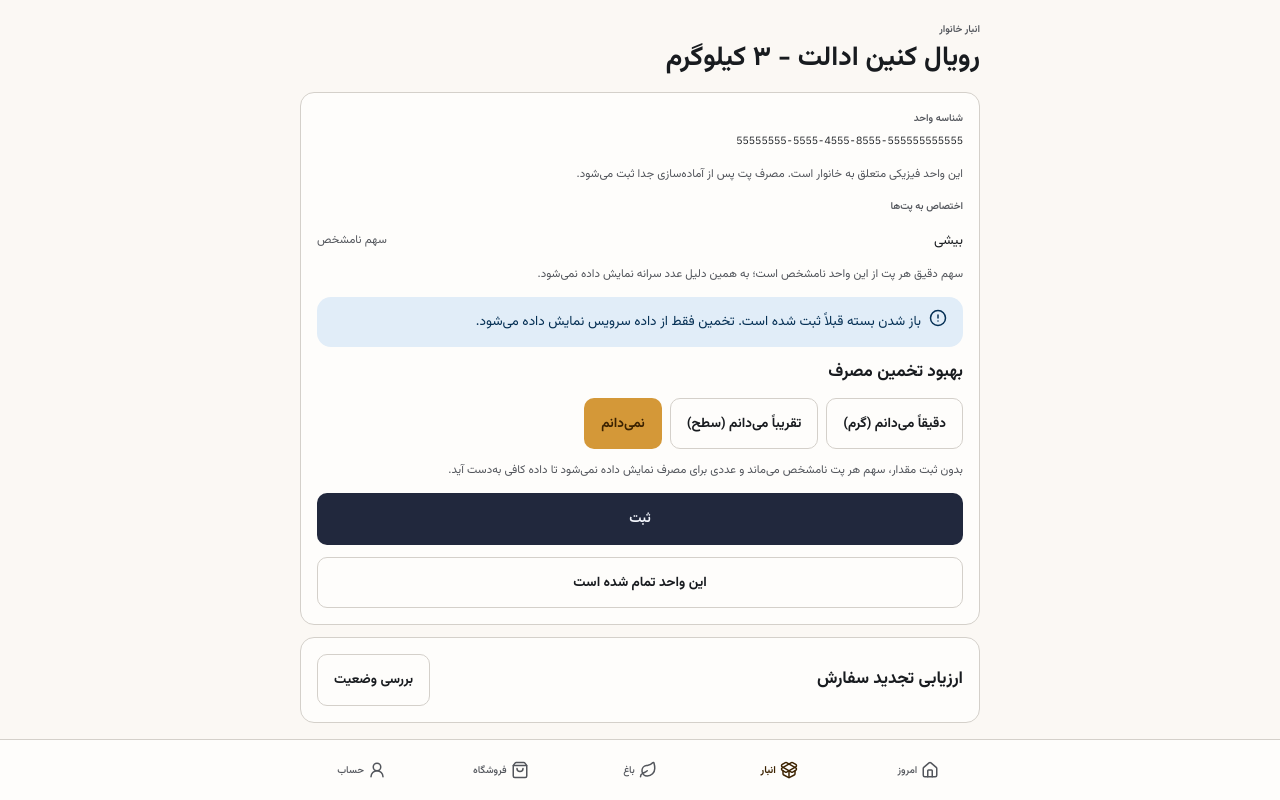
Test: InventoryOpening › lets an opened unit's estimate be corrected with a new exact-grams reading
The image size is (1280, 800).
Expected: the text "قبلاً ثبت شده" is shown, [476,311,921,332]
Click the button "دقیقاً می‌دانم (گرم)": (895, 424) [826,398,963,449]
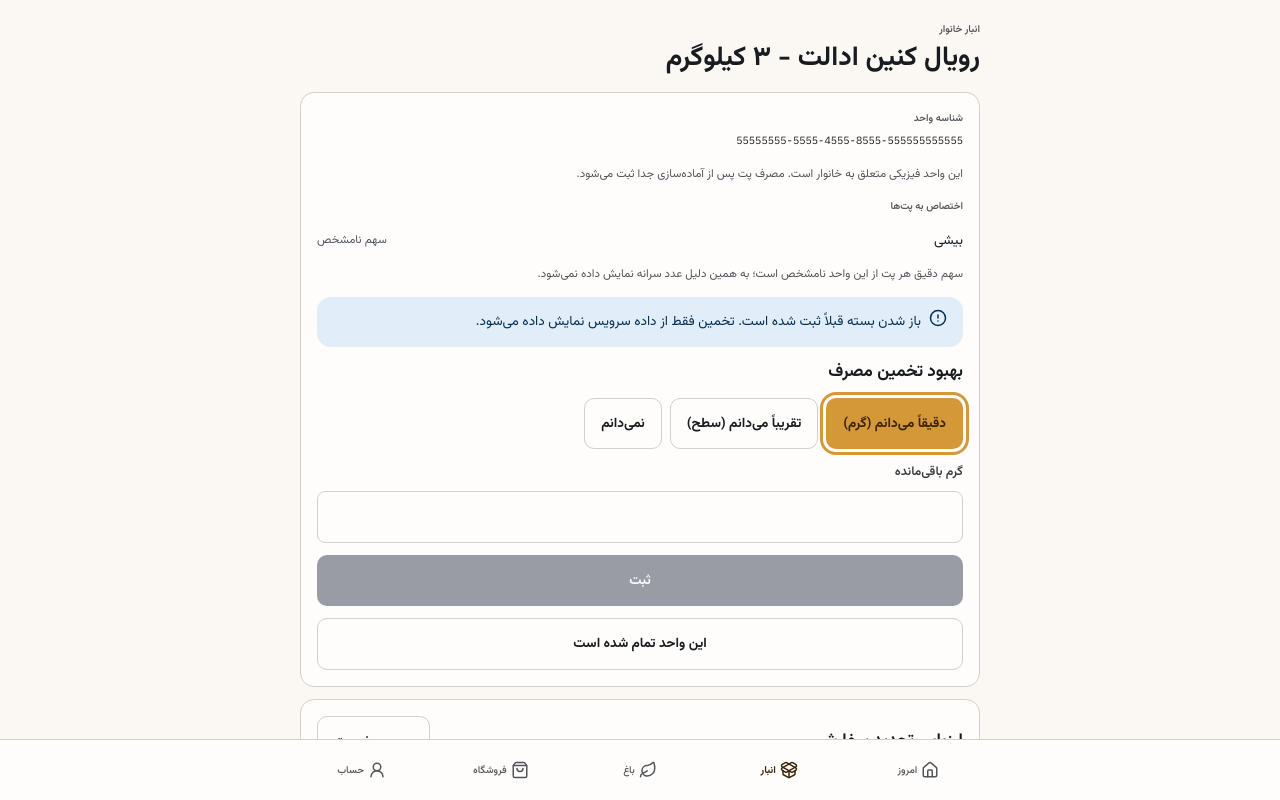
In the number field labelled "گرم باقی‌مانده": (640, 517) [317,491,963,543], type "450"
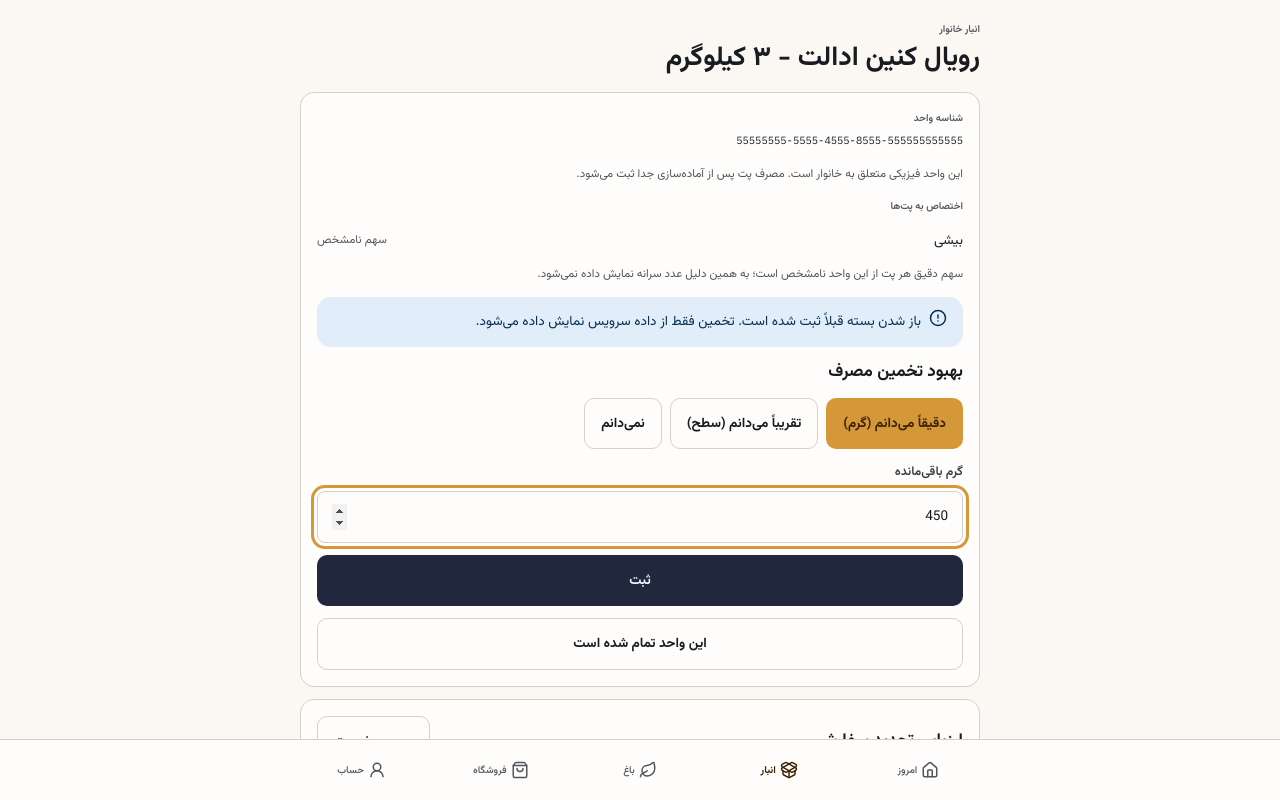
Click the button "ثبت": (640, 580) [317,555,963,606]
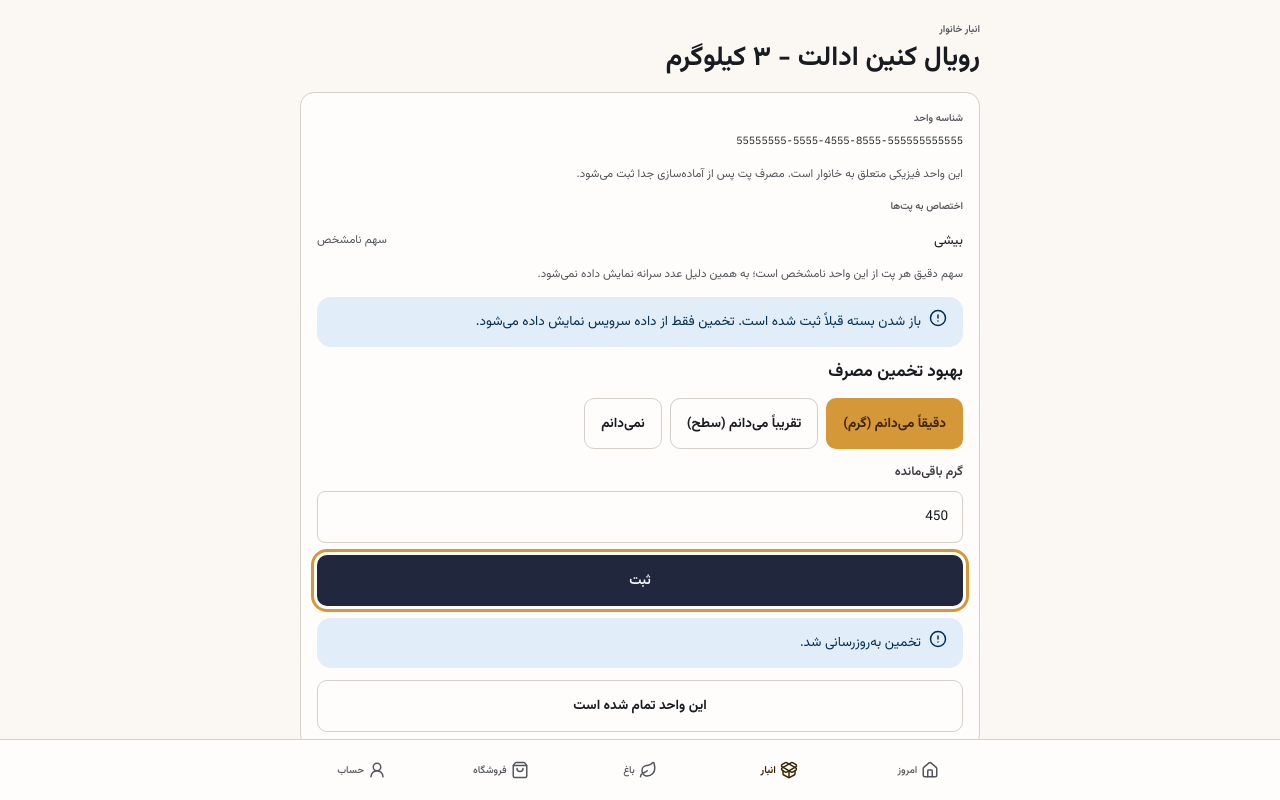
Expected: the text "تخمین به‌روزرسانی شد." is shown, [800,630,921,656]
